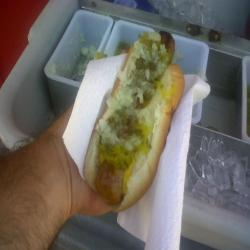hotdog: (81, 28, 187, 217)
